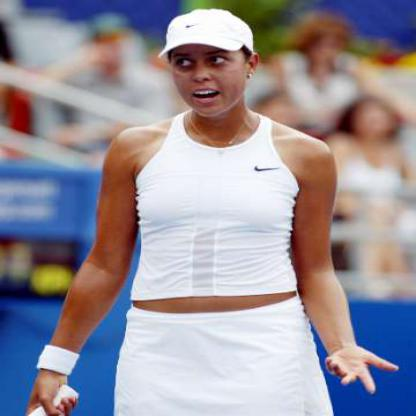face: (171, 12, 249, 118), (359, 101, 393, 141), (97, 21, 128, 57), (315, 22, 346, 56)
